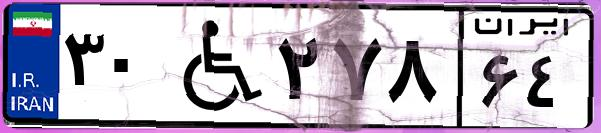0: (110, 28, 158, 98)
2: (270, 28, 330, 110)
3: (57, 26, 110, 100)
4: (525, 38, 570, 115)
6: (475, 38, 525, 113)
7: (330, 28, 385, 110)
8: (385, 28, 445, 110)
ژ (معلولین و جانبازان): (158, 12, 270, 120)
